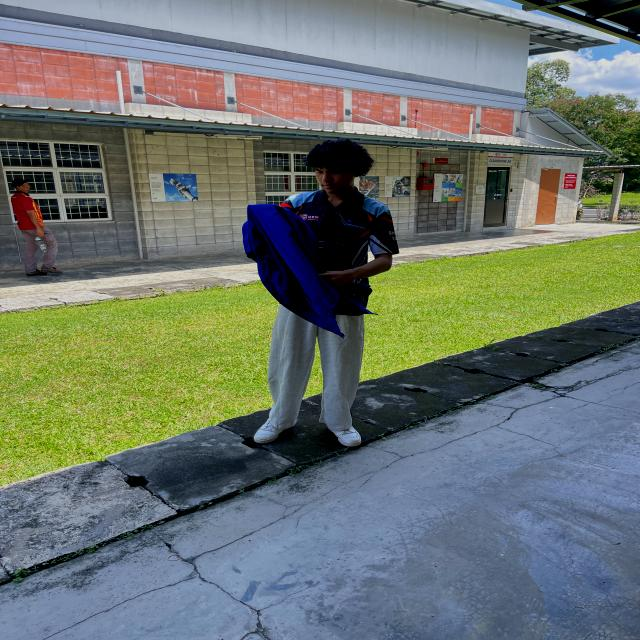person_without_labcoat: (243, 139, 399, 447)
